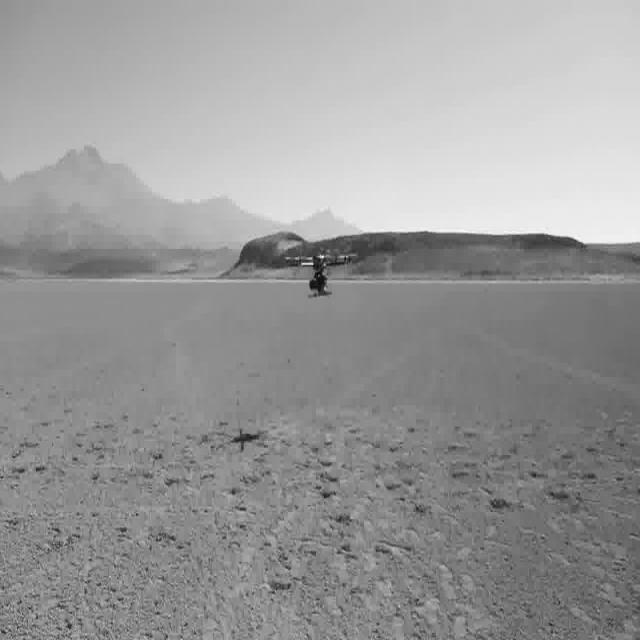drone: (287, 254, 356, 298)
